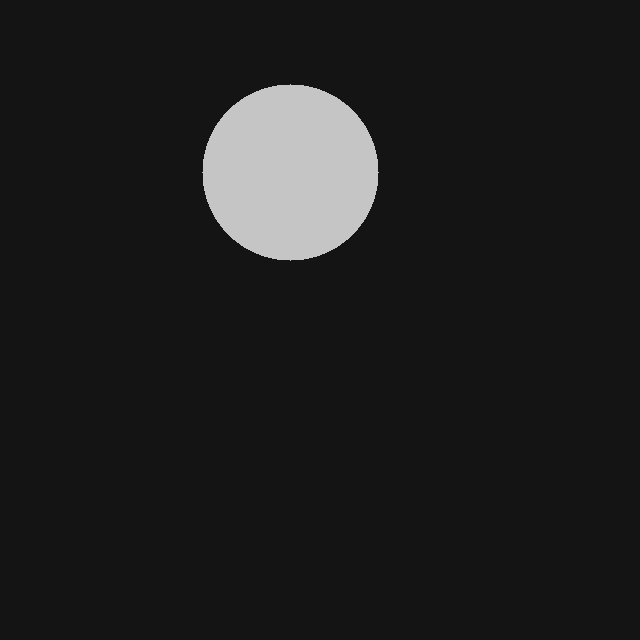circle: (202, 84, 378, 260)
